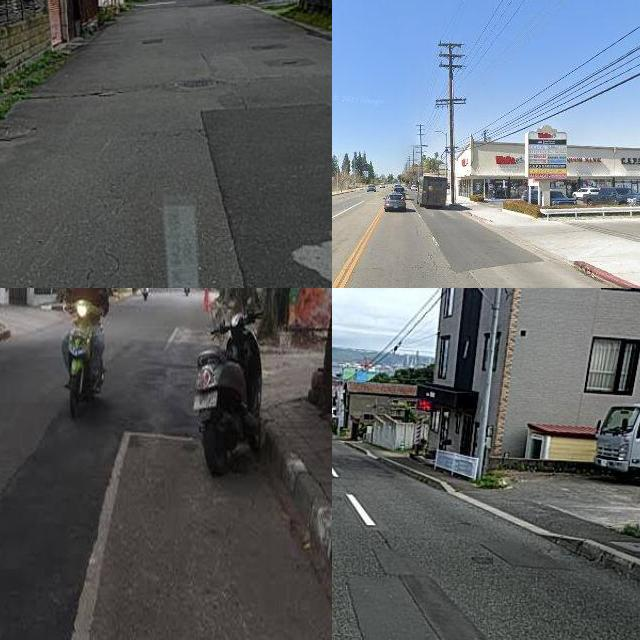Sambungan: (0, 342, 204, 640), (201, 102, 332, 288), (350, 574, 488, 640), (420, 214, 545, 274)
